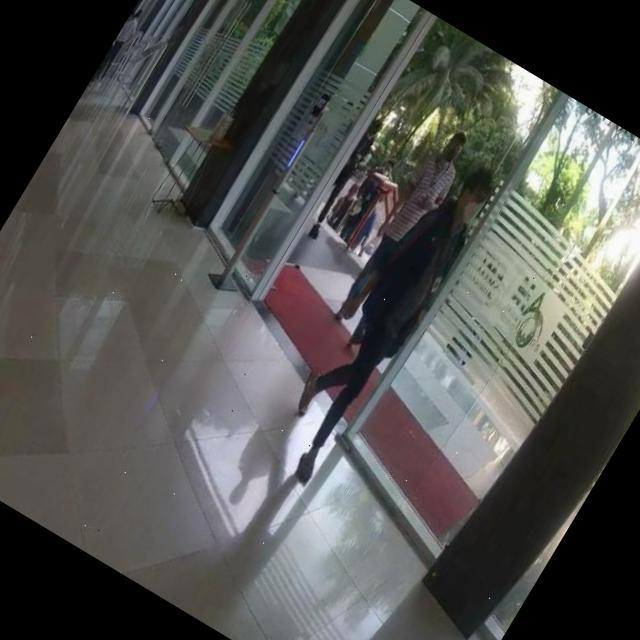person: (260, 150, 504, 496), (322, 121, 478, 342), (300, 114, 390, 245)
